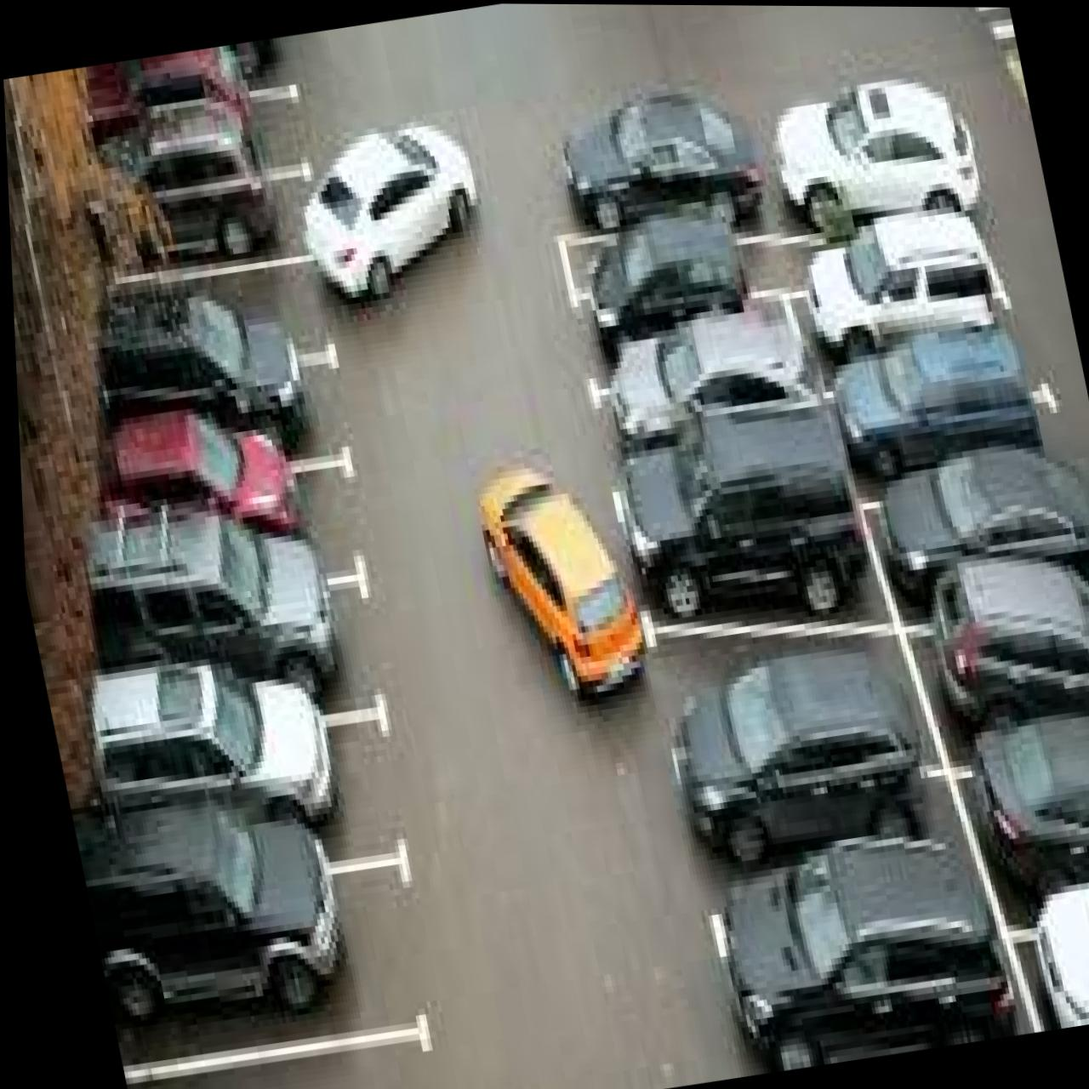cars: (97, 835, 438, 1081), (710, 856, 1003, 1078), (679, 695, 965, 898), (96, 684, 403, 862), (95, 545, 398, 717), (817, 336, 1072, 517), (616, 442, 863, 627), (854, 453, 1089, 647), (117, 438, 377, 590), (98, 327, 358, 479), (95, 233, 362, 375), (73, 146, 329, 292), (590, 331, 837, 482), (796, 236, 1019, 400), (893, 583, 1089, 764), (564, 256, 784, 390), (77, 61, 320, 181), (958, 705, 1089, 901), (1001, 864, 1089, 1025)
empty: (648, 573, 917, 768)
